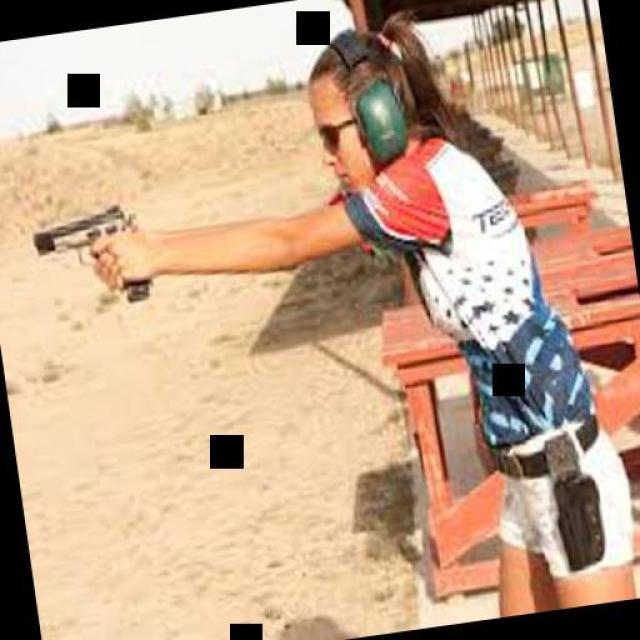gun: (23, 184, 158, 311)
